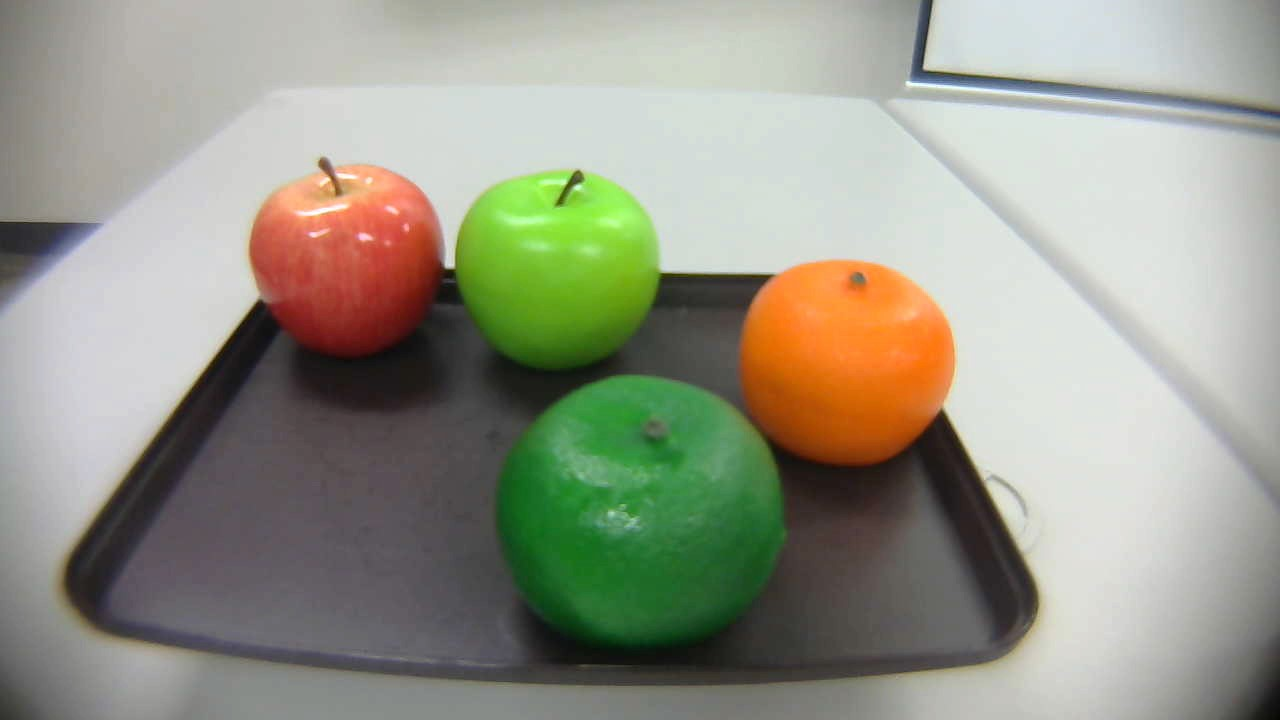green apple: (443, 161, 667, 375)
green orange: (489, 368, 799, 650)
orange: (734, 256, 965, 469)
red apple: (249, 155, 452, 368)
